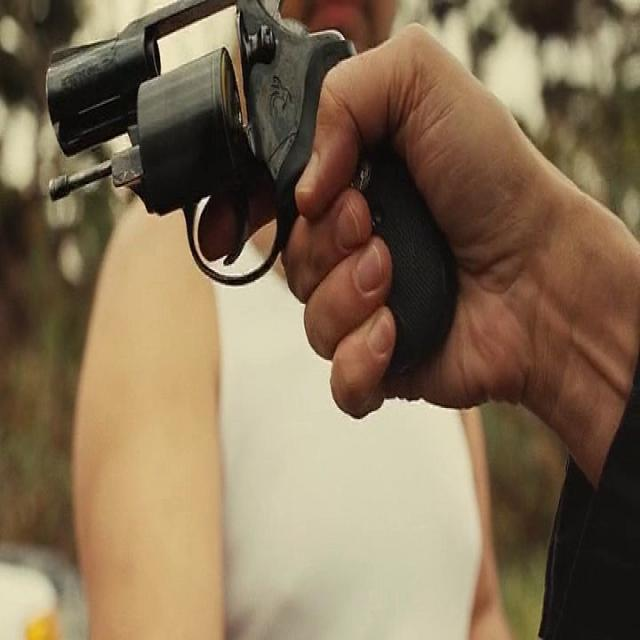gun-knife-thesis - v11 Yolov5 augmented: (35, 6, 454, 408)
